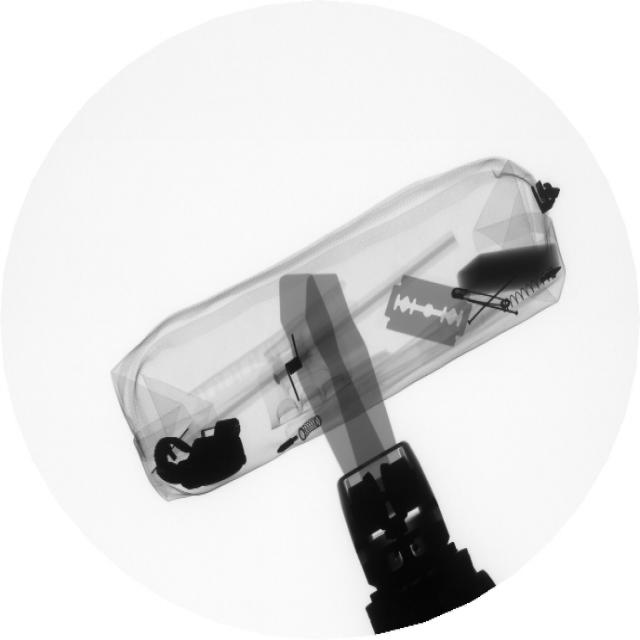BLADE: (378, 270, 484, 354)
